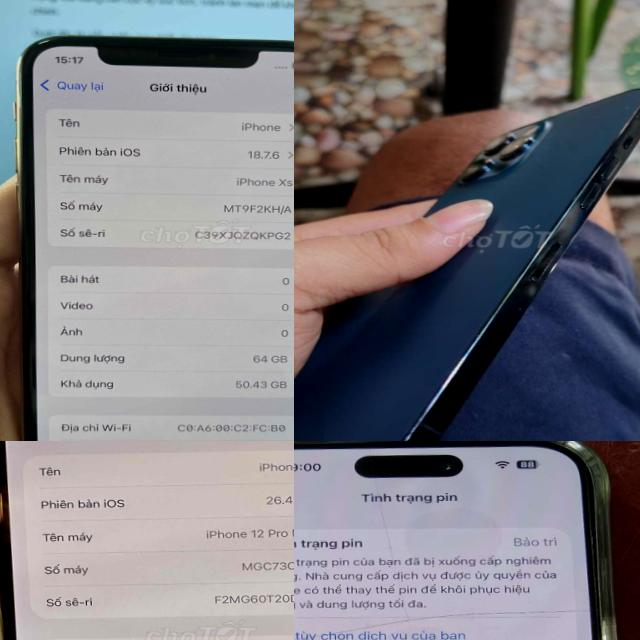screen_defect: (350, 477, 411, 627), (413, 604, 614, 630), (294, 618, 380, 640)
